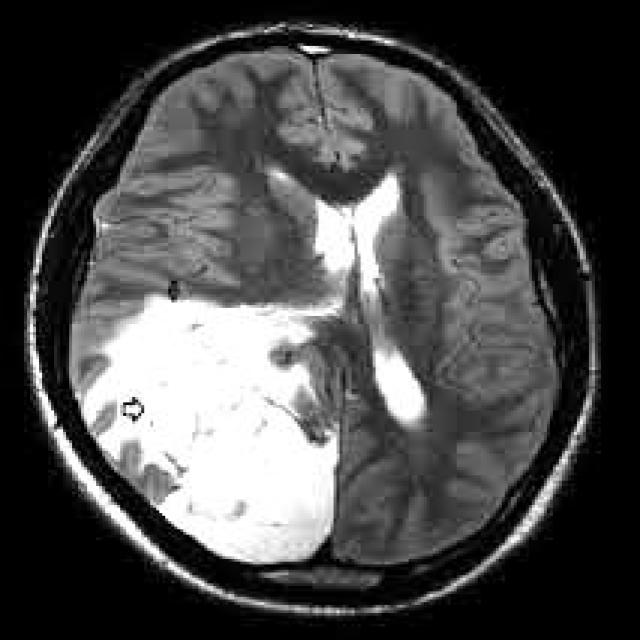Tumor-Cell: (61, 296, 338, 565)
